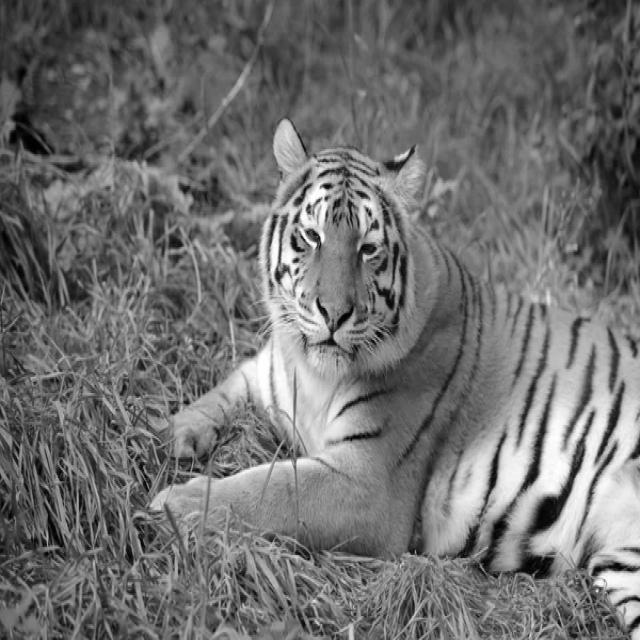Animal: (151, 143, 640, 544)
